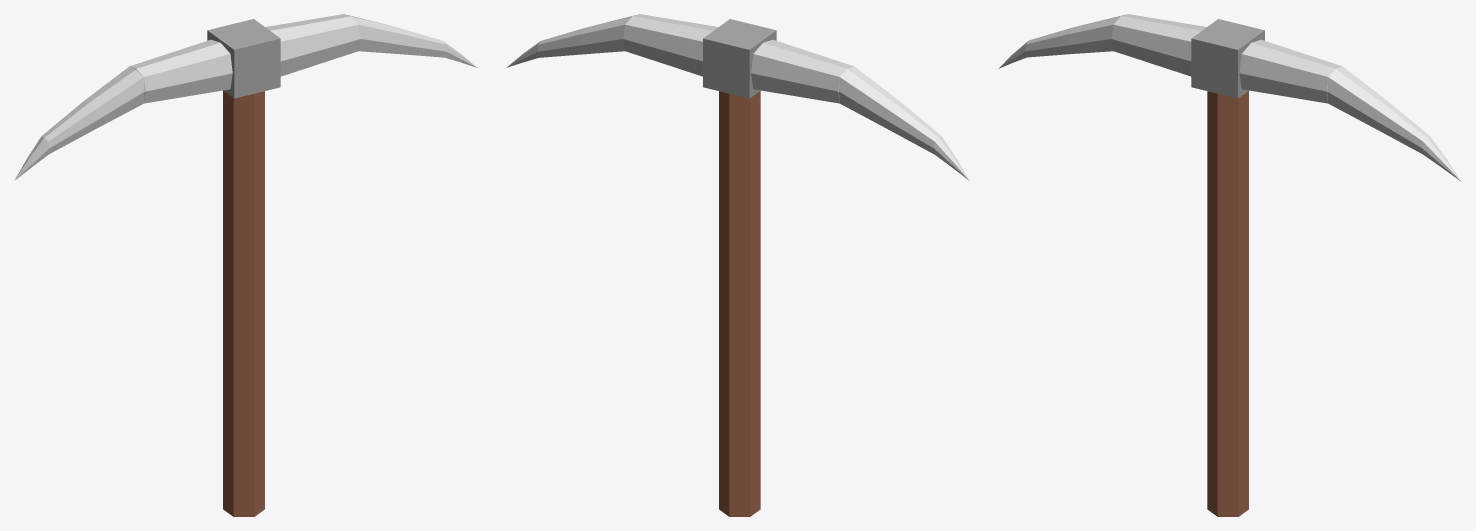
The model's file is pick.fbx.
3 renders of one model, left to right at view 1: azimuth 30°, elevation 25°; view 2: azimuth 150°, elevation 25°; view 3: azimuth 330°, elevation 25°, orthographic.
Parts seen in each view (by area): view 1: Cylinder, Cube.001, Cube; view 2: Cylinder, Cube.001, Cube; view 3: Cylinder, Cube.001, Cube.
Boxes of the visible parts, x1,y1,x2,y2 form: Cylinder: (223,90,264,516); Cube.001: (14,14,477,180); Cube: (207,19,280,98); Cylinder: (719,91,760,516); Cube.001: (506,14,969,180); Cube: (703,19,776,98); Cylinder: (1207,91,1248,516); Cube.001: (998,14,1461,181); Cube: (1191,19,1264,98).
Size of the model in its own units: 270 by 264 by 27.06.
